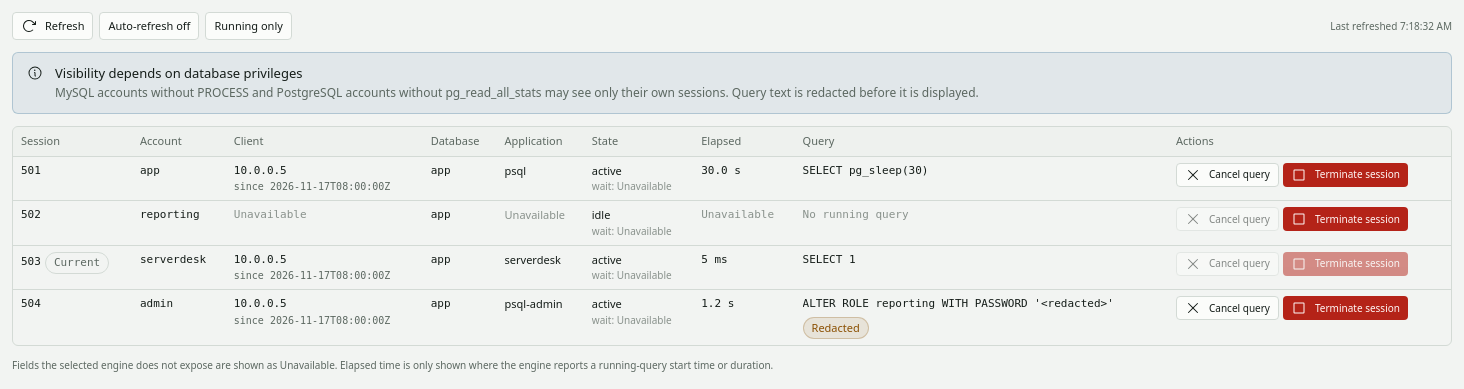
DatabaseSessionsPanel › exposes a bounded auto-refresh control
Check: the text "SELECT pg_sleep(30)" is shown, box [803, 164, 928, 176]
Click the button "Auto-refresh off": (149, 26) [99, 12, 199, 40]
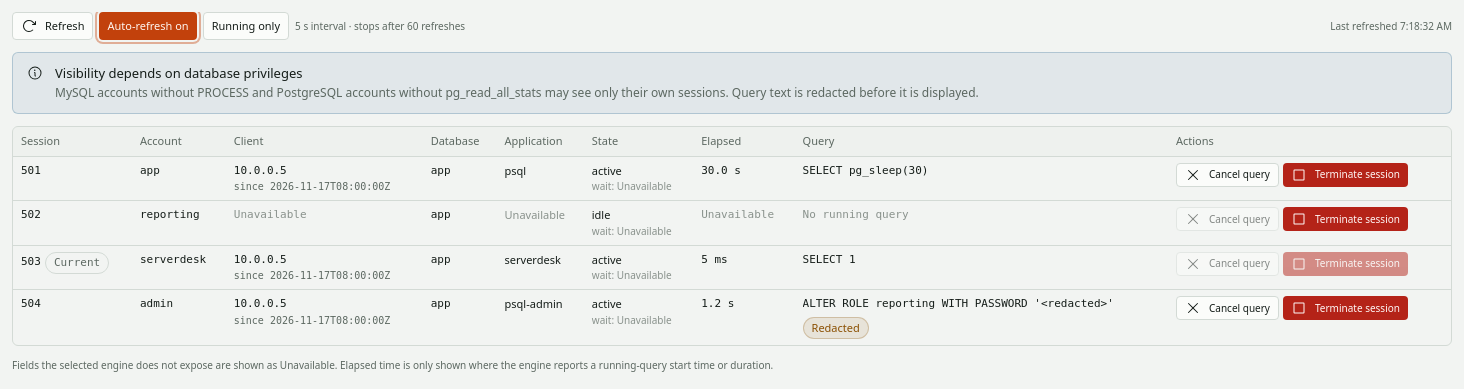
Check: the text "5 s interval · stops after 60 refreshes" is shown, box [295, 18, 465, 34]
